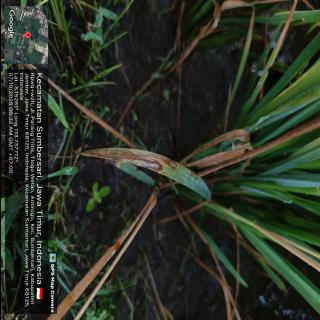Blast: (76, 149, 179, 175)
